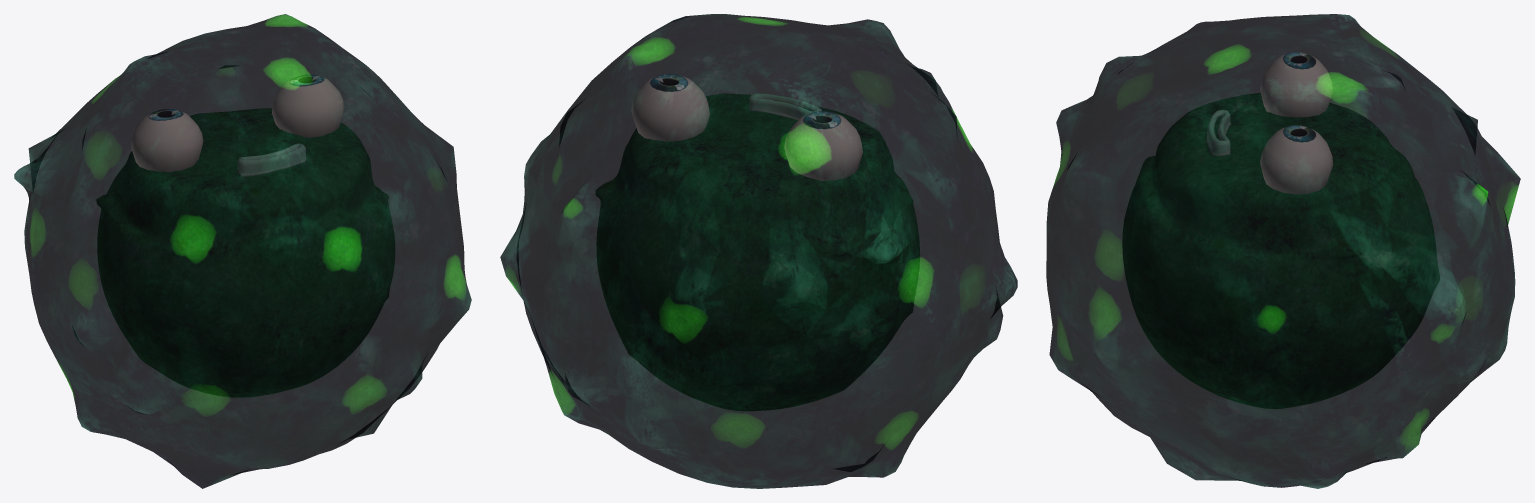
Rendered from Green_Cell.fbx.
The picture shows the model from 3 angles, left to right: view 1: azimuth 30°, elevation 25°; view 2: azimuth 150°, elevation 25°; view 3: azimuth 270°, elevation 25°; orthographic projection. The views are drawn at different scales.
Visible parts, largest first — view 1: PM3D_model_0, PM3D_model_1, Eyes2; view 2: PM3D_model_0, PM3D_model_1, Eyes2; view 3: PM3D_model_0, PM3D_model_1, Eyes2.
Boxes of the visible parts, bbox=[...] form: PM3D_model_0: bbox=[14, 14, 471, 488]; PM3D_model_1: bbox=[96, 108, 394, 397]; Eyes2: bbox=[131, 75, 343, 171]; PM3D_model_0: bbox=[500, 14, 1017, 488]; PM3D_model_1: bbox=[596, 93, 919, 410]; Eyes2: bbox=[631, 74, 862, 180]; PM3D_model_0: bbox=[1046, 14, 1520, 488]; PM3D_model_1: bbox=[1122, 93, 1439, 408]; Eyes2: bbox=[1260, 52, 1332, 194].
Bounding box in the file's own units: 284 × 277 × 277.
3 materials, 3 textured.
